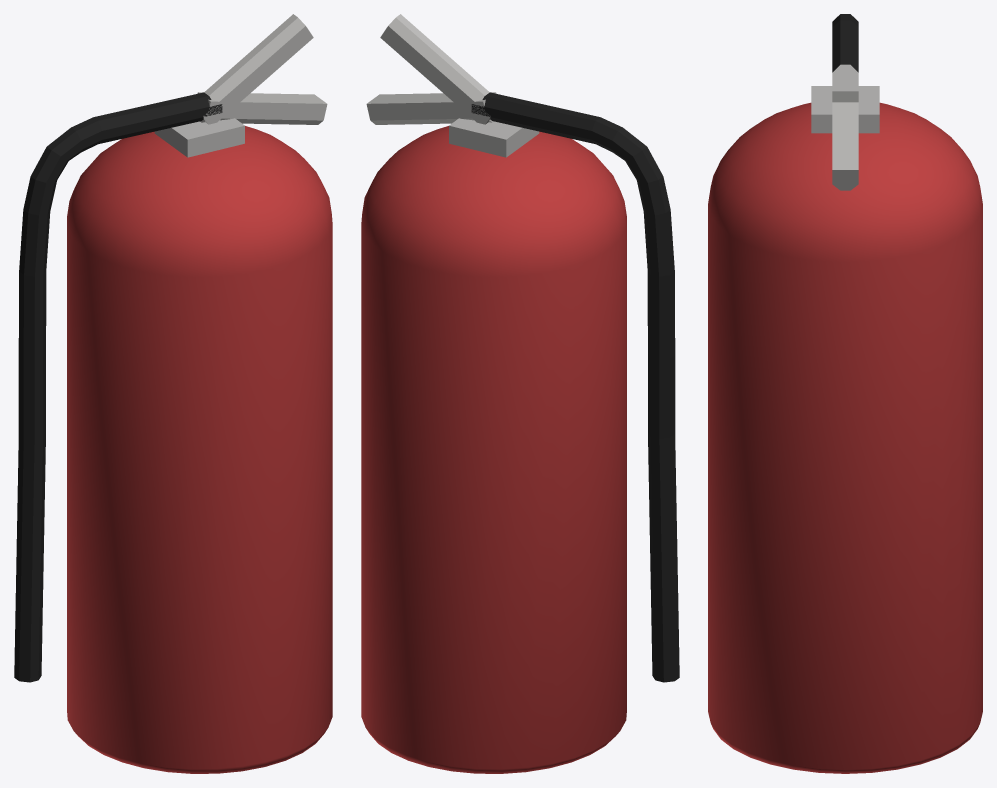
Rendered from fire bottle.glb.
The picture shows the model from 3 angles, left to right: view 1: azimuth 30°, elevation 25°; view 2: azimuth 150°, elevation 25°; view 3: azimuth 270°, elevation 25°; orthographic projection. The views are drawn at different scales.
Parts seen in each view (by area): view 1: Sphere; view 2: Sphere; view 3: Sphere.
Boxes of the visible parts, <box> form: Sphere: <box>14,14,332,773</box>; Sphere: <box>361,14,679,773</box>; Sphere: <box>708,14,982,773</box>.
Size of the model in its own units: 0.9918 by 2.12 by 0.7519.
Materials: 1 (1 with a texture image).
